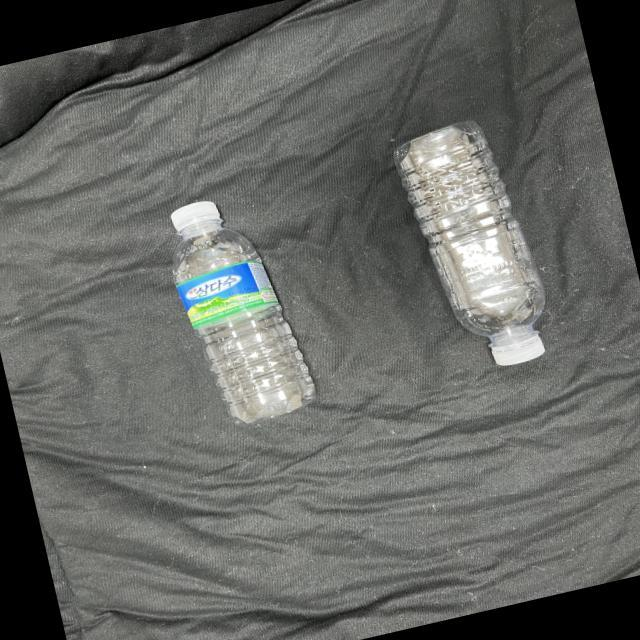good: (369, 99, 576, 387), (138, 175, 321, 443)
